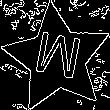M_S: (30, 29, 85, 88)
